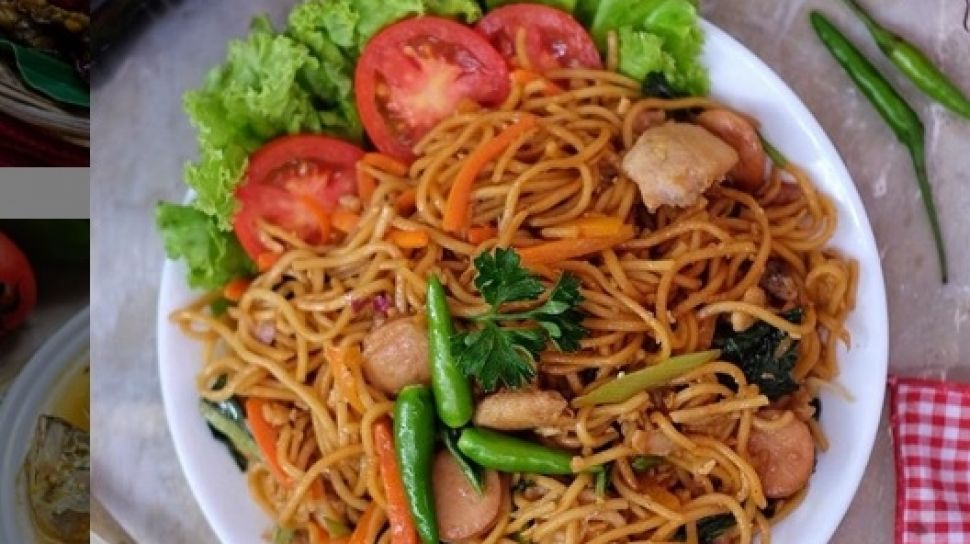Mie: (216, 72, 837, 544)
